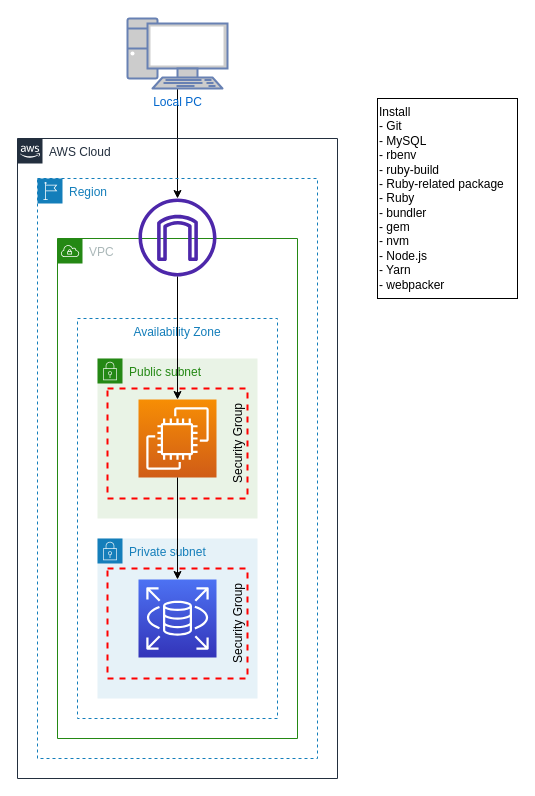
The diagram is 535 pixels wide and 796 high, and some of its shapes have lost their labels. The centre of each missing label's shape, as x and y in pixels:
"EC2" goes at (177,438).
"IGW" goes at (177,237).
"RDS" goes at (177,618).
